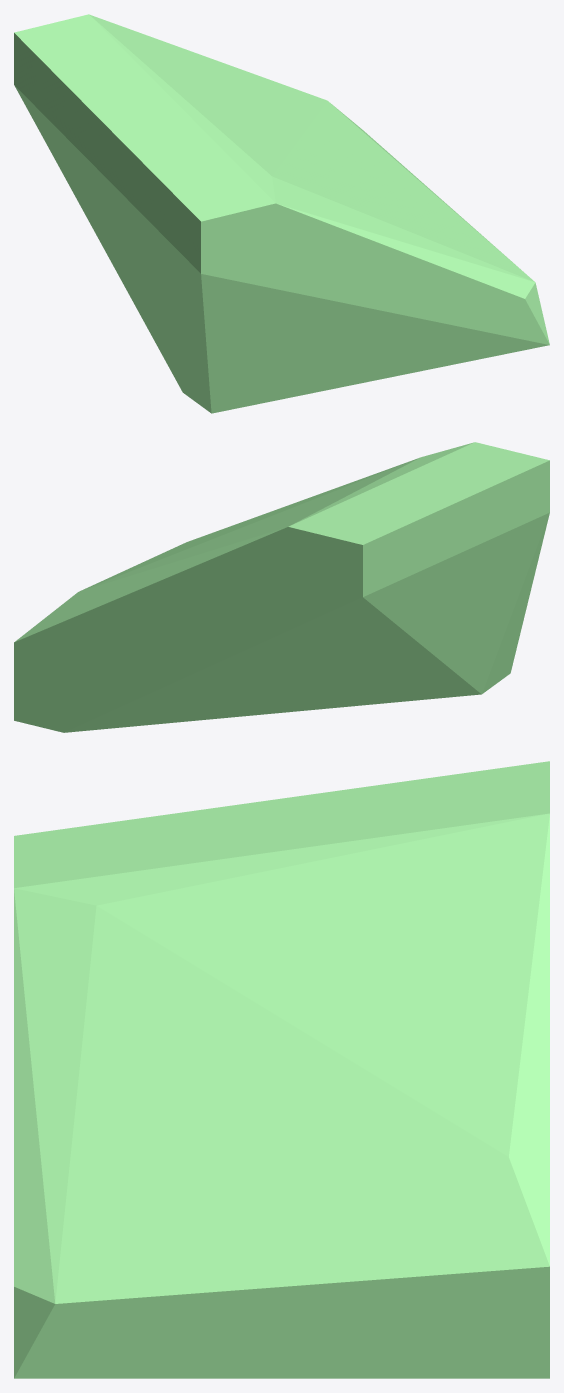
Rendered from rambler_robot_base_coll_51.dae.
3 views of the same model, one above another, from view 1: azimuth 30°, elevation 25°; view 2: azimuth 150°, elevation 25°; view 3: azimuth 270°, elevation 25° (orthographic). The views are drawn at different scales.
Visible parts, largest first — view 1: Node_0x7fe0fc4d5380; view 2: Node_0x7fe0fc4d5380; view 3: Node_0x7fe0fc4d5380.
Part boxes in pixels (box(x1,y1,x2,y2)): Node_0x7fe0fc4d5380: box(14, 14, 549, 413); Node_0x7fe0fc4d5380: box(14, 442, 549, 732); Node_0x7fe0fc4d5380: box(14, 761, 549, 1378).
Size of the model in its own units: 0.1916 by 0.1369 by 0.1779.
